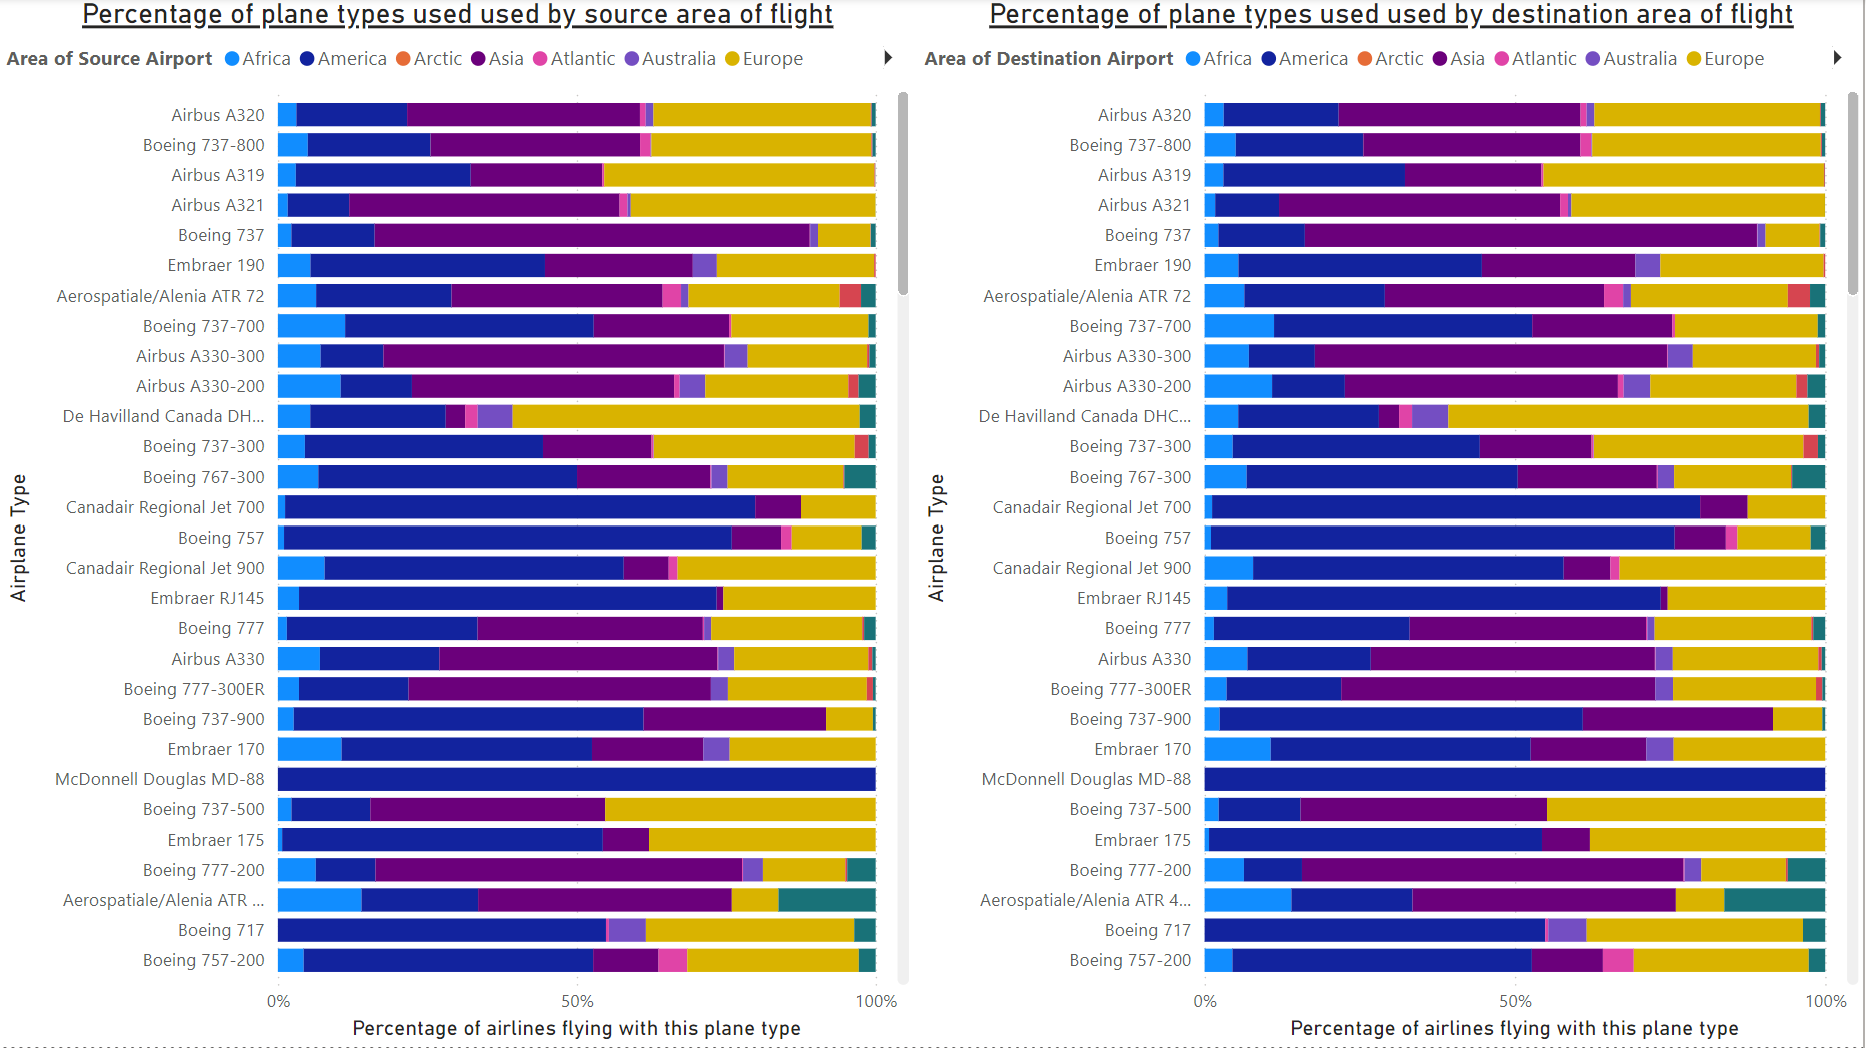

The page's visual inventory and layout, read from the dashboard file:
{"tool":"powerbi","page":{"name":"Percent of Type by Area","canvas":[1280,720],"ordinal":2},"visuals":[{"type":"hundredPercentStackedBarChart","title":"Percentage of plane types used used by destination area of flight","fields":{"Category":["routes_equip_final.Equipment_Name"],"Y":["CountNonNull(routes_equip_final.Airline_Name)"],"Series":["routes_equip_final.Destination_Airport_Area"]},"box":[630,0,651.7,720],"z":0},{"type":"hundredPercentStackedBarChart","title":"Percentage of plane types used used by source area of flight","fields":{"Series":["routes_equip_final.Source_Airport_Area"],"Category":["routes_equip_final.Equipment_Name"],"Y":["CountNonNull(routes_equip_final.Airline_Name)"]},"box":[0,0,630,720],"z":1}]}

Visuals, with their boxes in screenshot pixels (x1, y1, x2, y2), scaled from the page's 1280x720 canvas onto the 1866x1048 screenshot:
"Percentage of plane types used used by destination area of flight" hundredPercentStackedBarChart: region(918, 0, 1865, 1047)
"Percentage of plane types used used by source area of flight" hundredPercentStackedBarChart: region(0, 0, 918, 1047)
